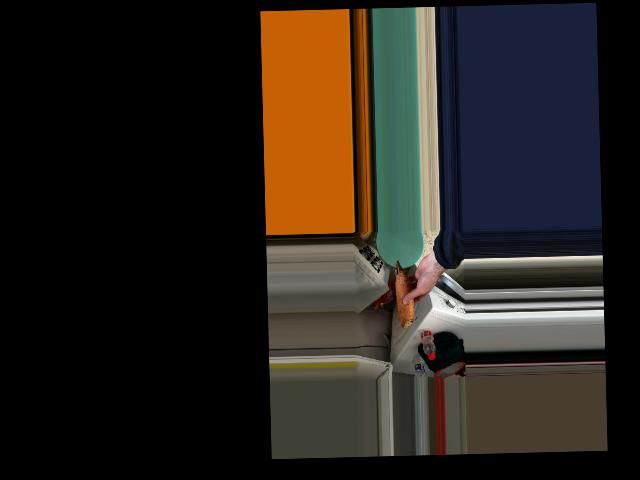sweet_potato: (390, 260, 418, 331)
